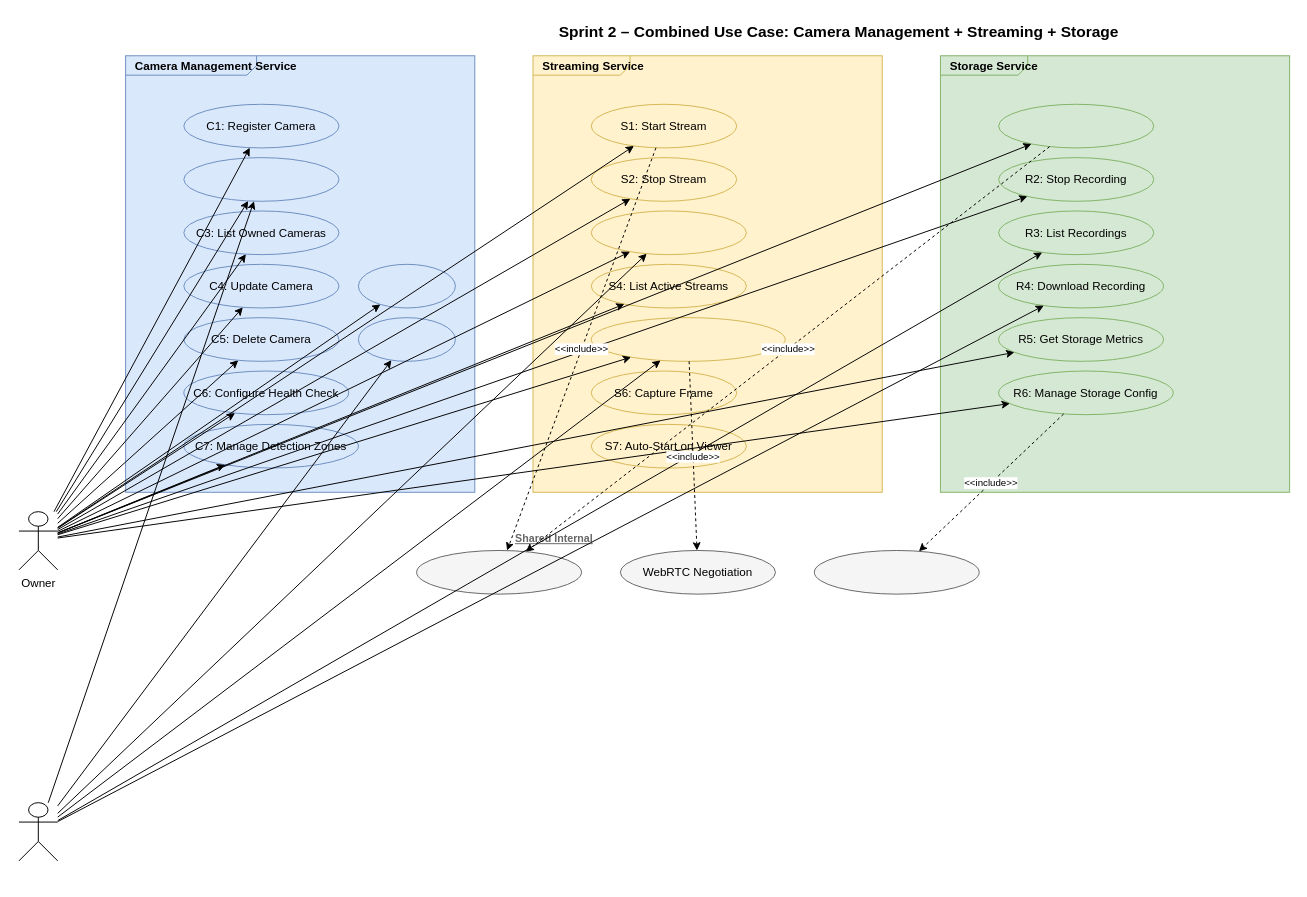
Some shapes in this 1307 by 897 pixel diagram are drawn without their labels. Each missing label, with the centre of its shape:
"C2: Get Camera Details" goes at (261,179).
"C8: Share Camera Access" goes at (406,285).
"C9: List Shared Cameras" goes at (406,339).
"Enforce Retention Policy" goes at (896,572).
"Fetch Camera Metadata" goes at (499,572).
"Member" goes at (38,831).
"R1: Start Recording" goes at (1076,125).
"S3: Get Stream Status" goes at (668,232).
"S5: Watch Live Stream (WebRTC)" goes at (687,339).
